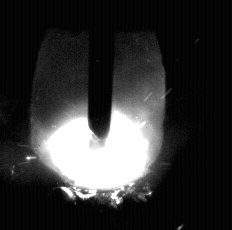arame: (88, 0, 112, 139)
poca: (30, 0, 163, 230)
